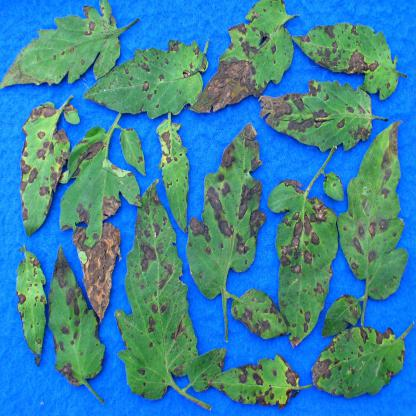tomato early blight leaf: (119, 165, 204, 401), (188, 125, 265, 302), (341, 117, 409, 304), (187, 4, 294, 115), (268, 184, 335, 354), (2, 8, 125, 93), (47, 247, 105, 397), (254, 81, 373, 153), (89, 50, 211, 116), (294, 22, 401, 95), (311, 318, 407, 396), (20, 90, 70, 239), (207, 357, 311, 413), (14, 245, 53, 384), (154, 115, 190, 233), (113, 120, 149, 183), (324, 292, 361, 336)
